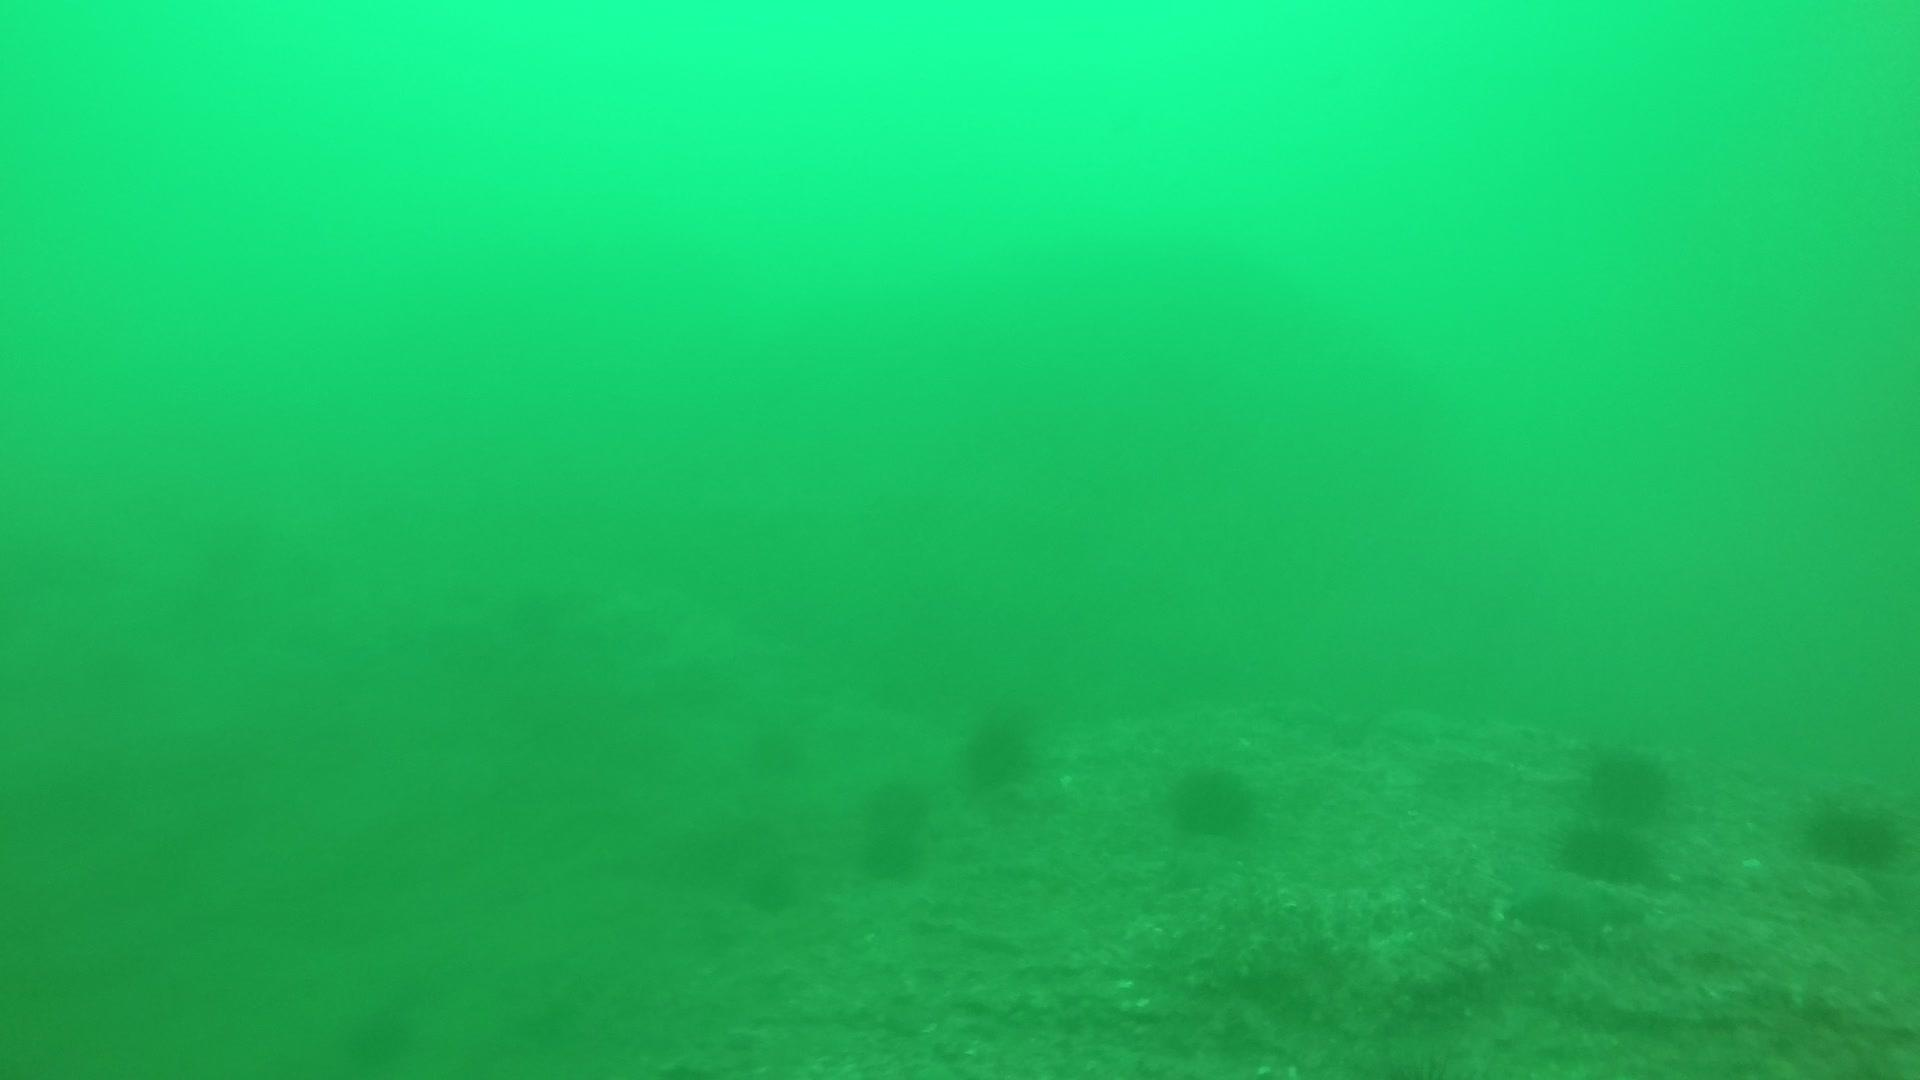echinus: (1795, 785, 1908, 876), (853, 771, 936, 880), (1163, 756, 1261, 841), (1580, 738, 1677, 822), (956, 702, 1044, 791), (1552, 815, 1658, 889), (741, 713, 811, 781), (738, 857, 804, 918)
starfish: (1505, 862, 1638, 943)
